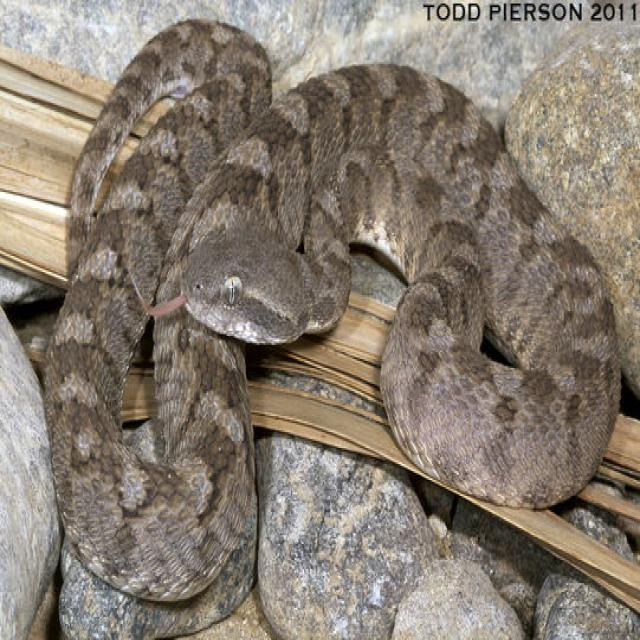Snake: (147, 58, 622, 510), (40, 16, 272, 608)
